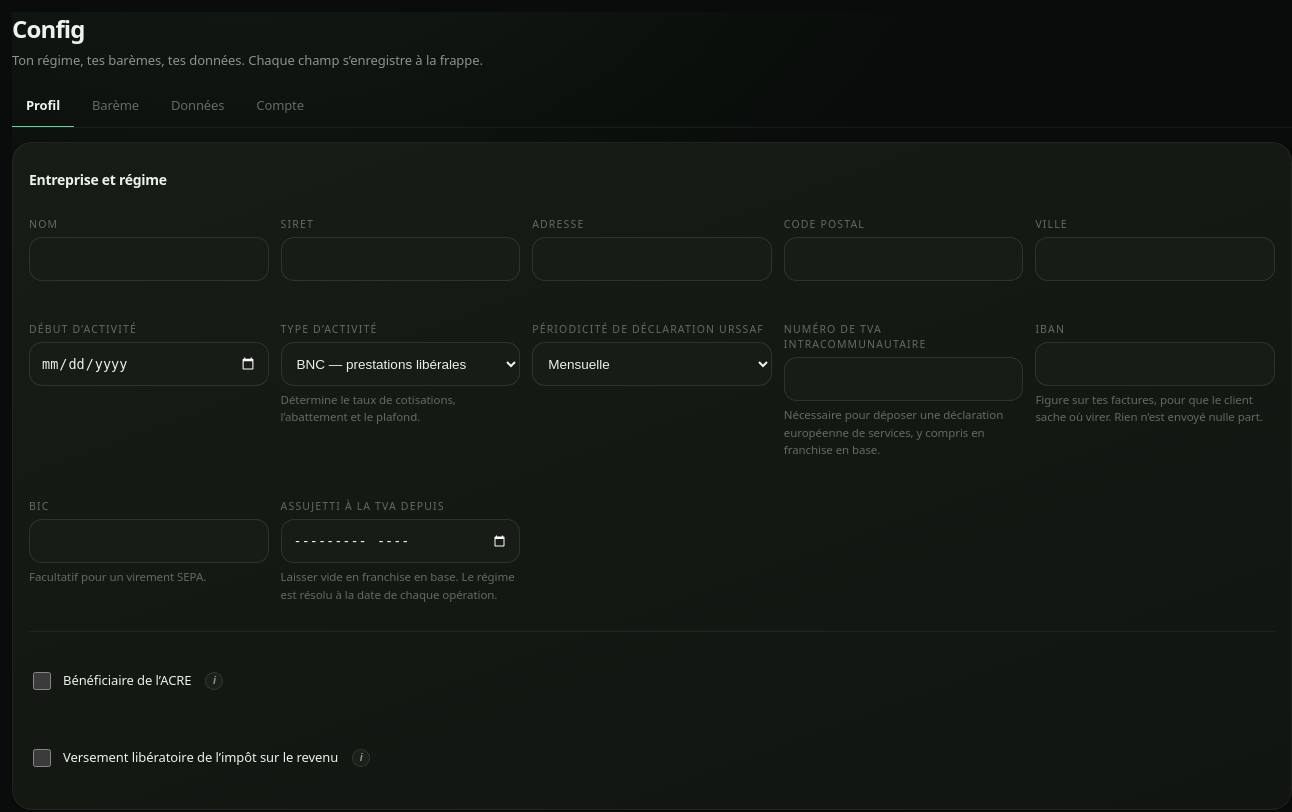
Scenario: barème affiché › montre la table réellement appliquée par les calculs
The image size is (1292, 812).
Click the tab "Barème" at x=115, y=106, box [78,84,153,128]
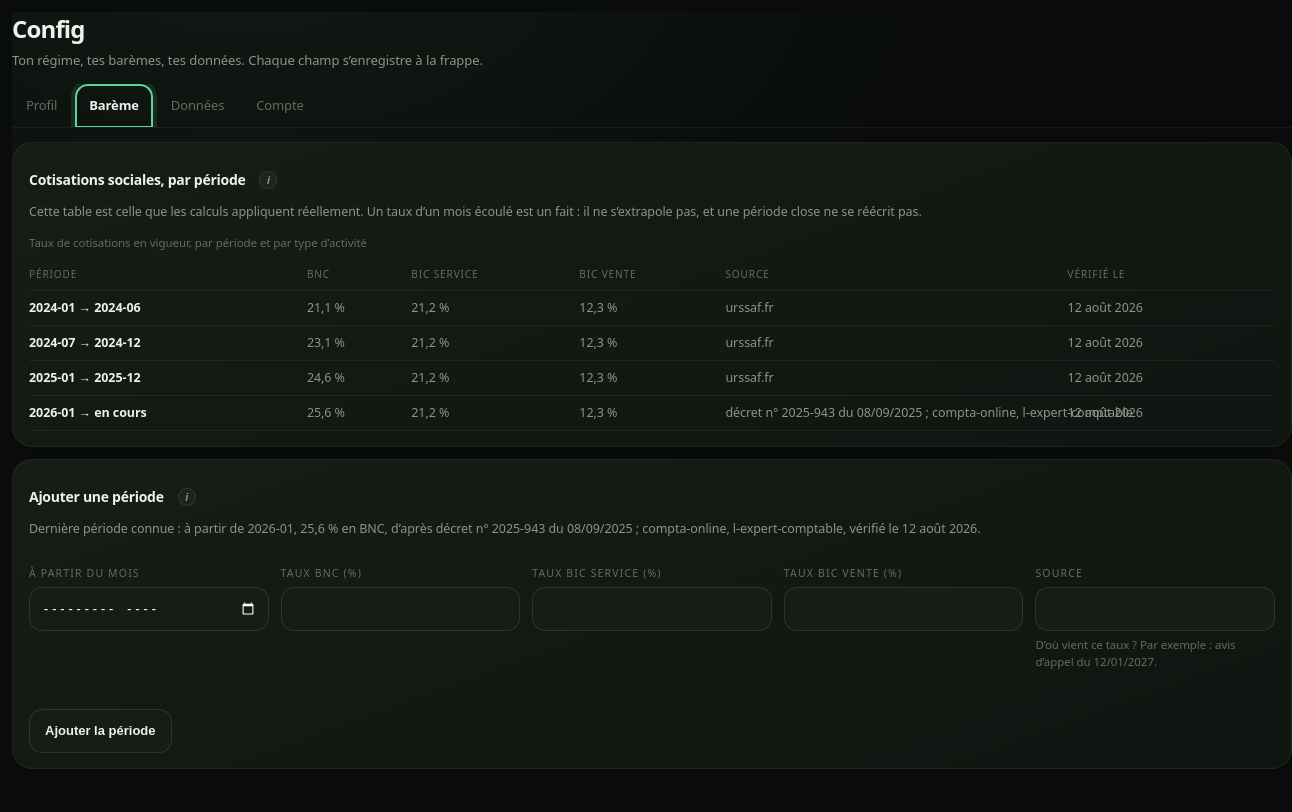
expect the table is shown: met, box [29,235,1275,431]
